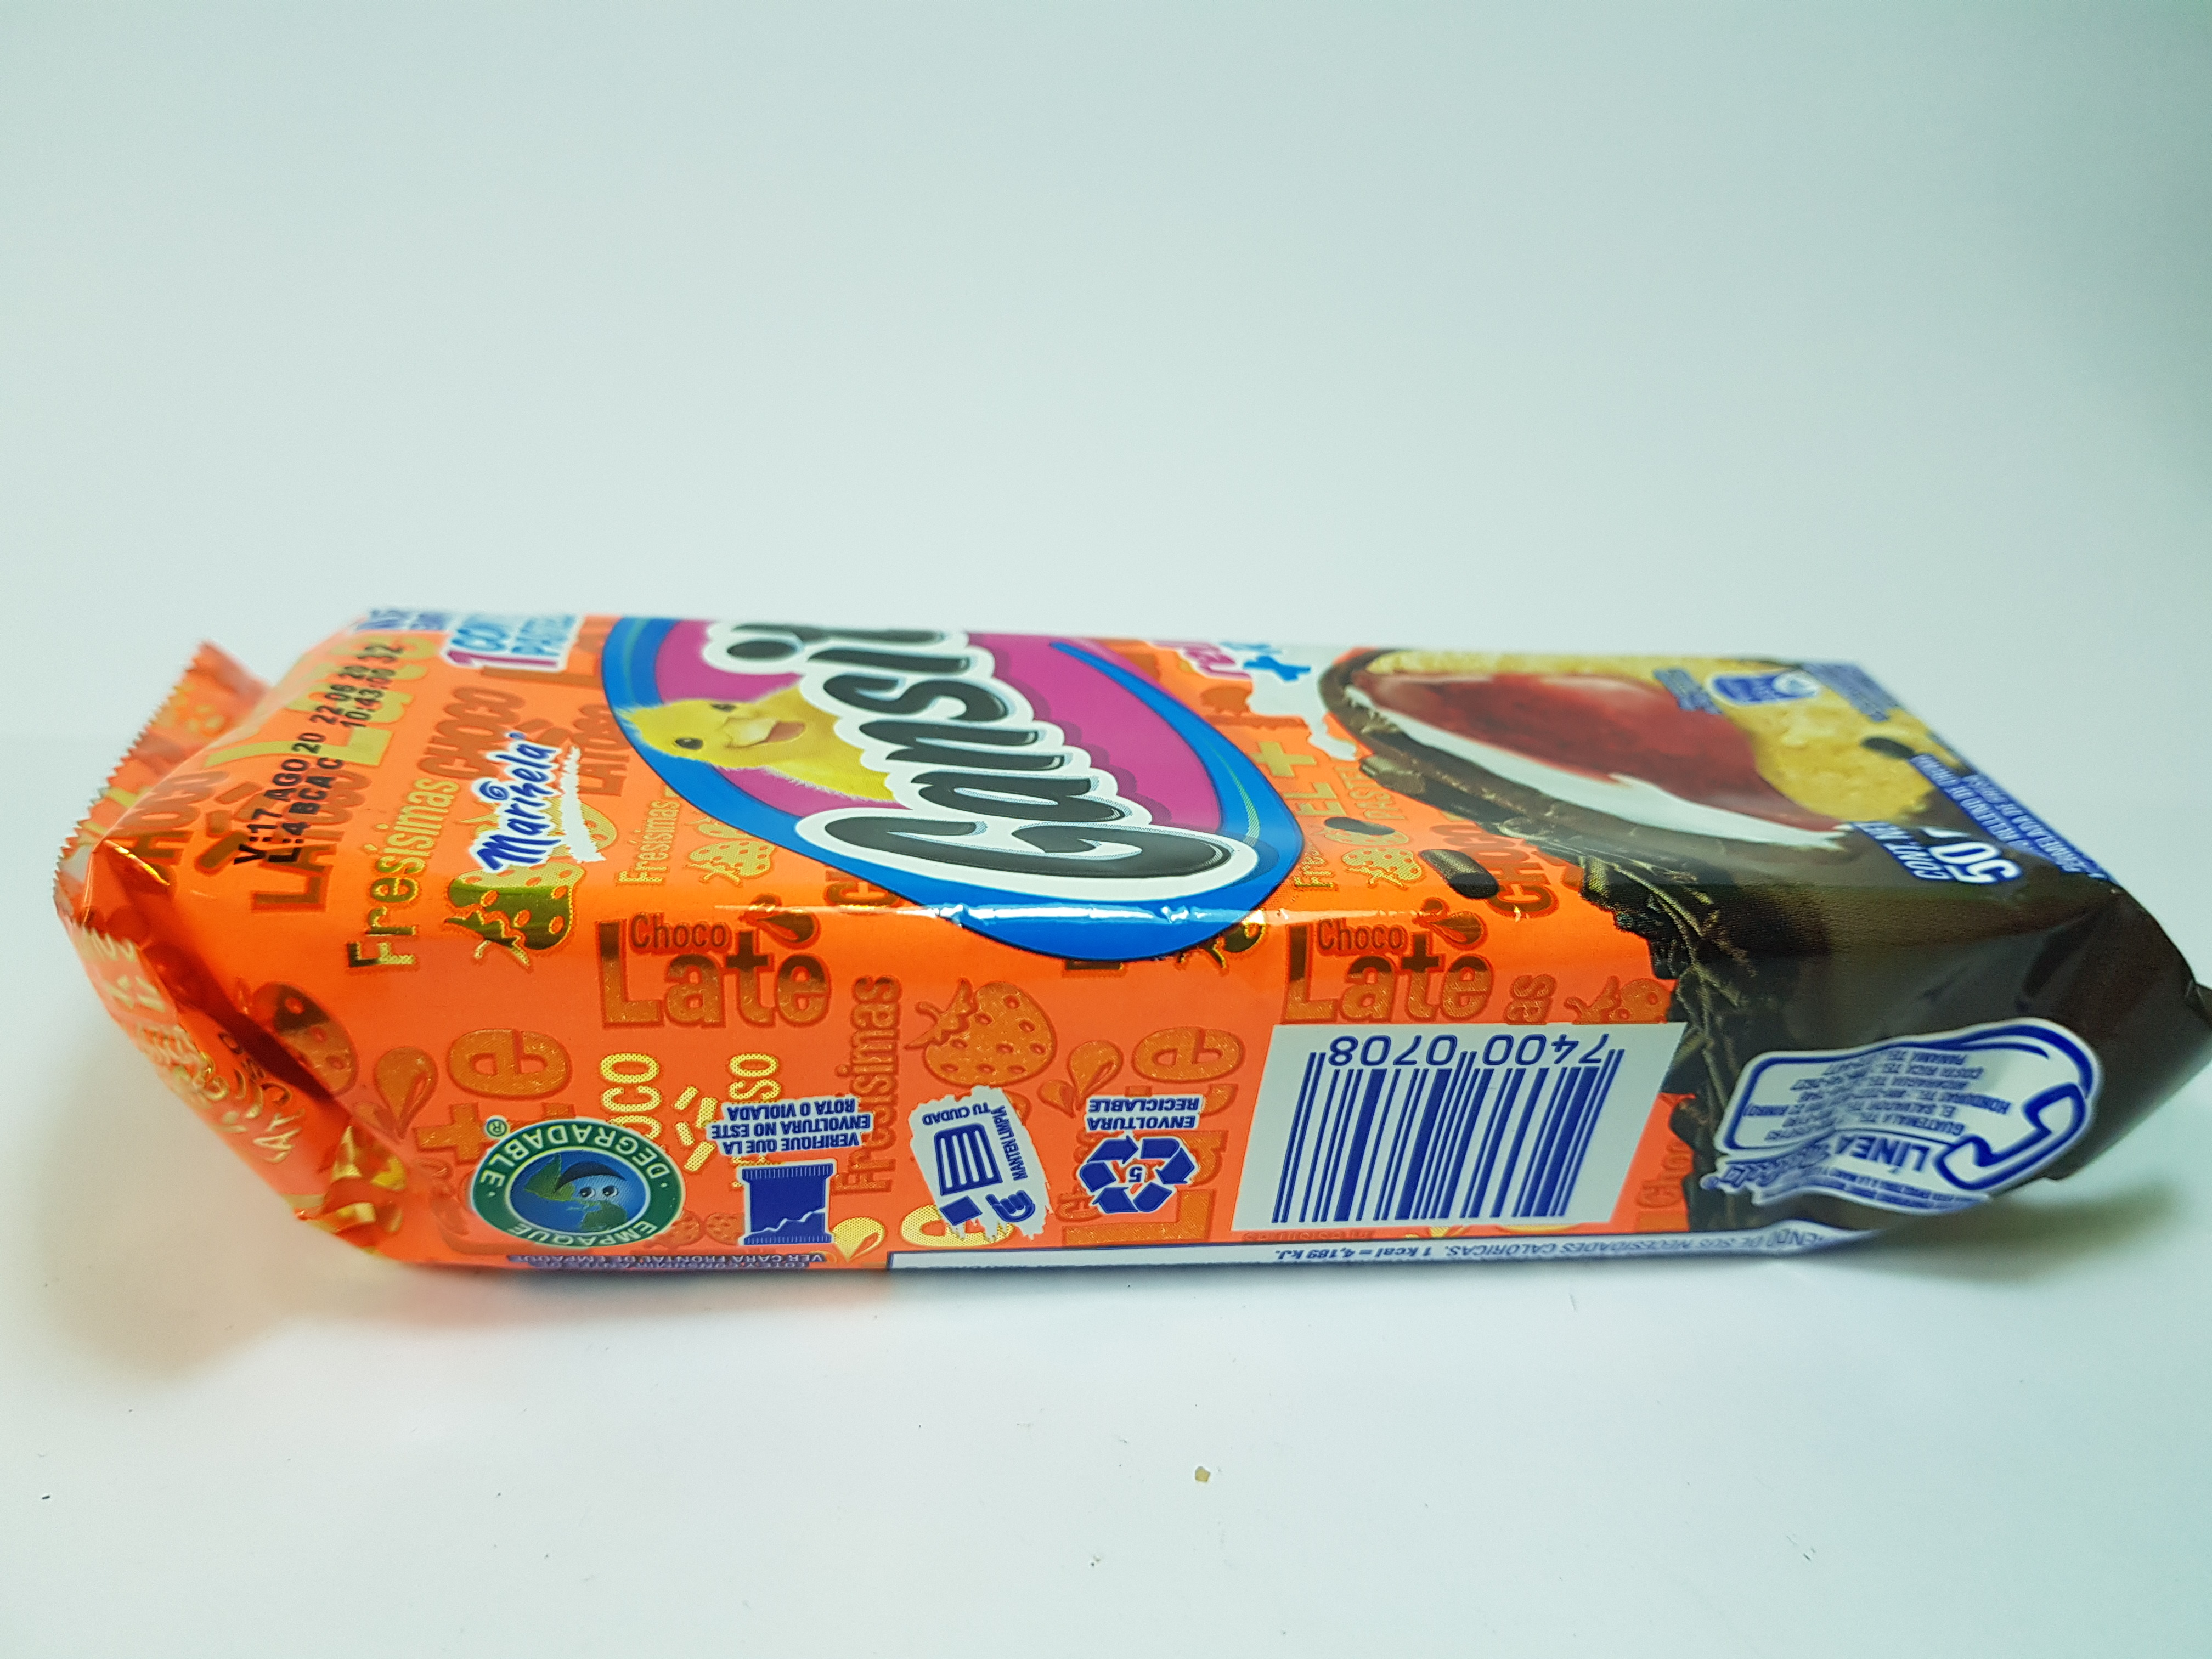gansito: (44, 580, 2212, 1291)
